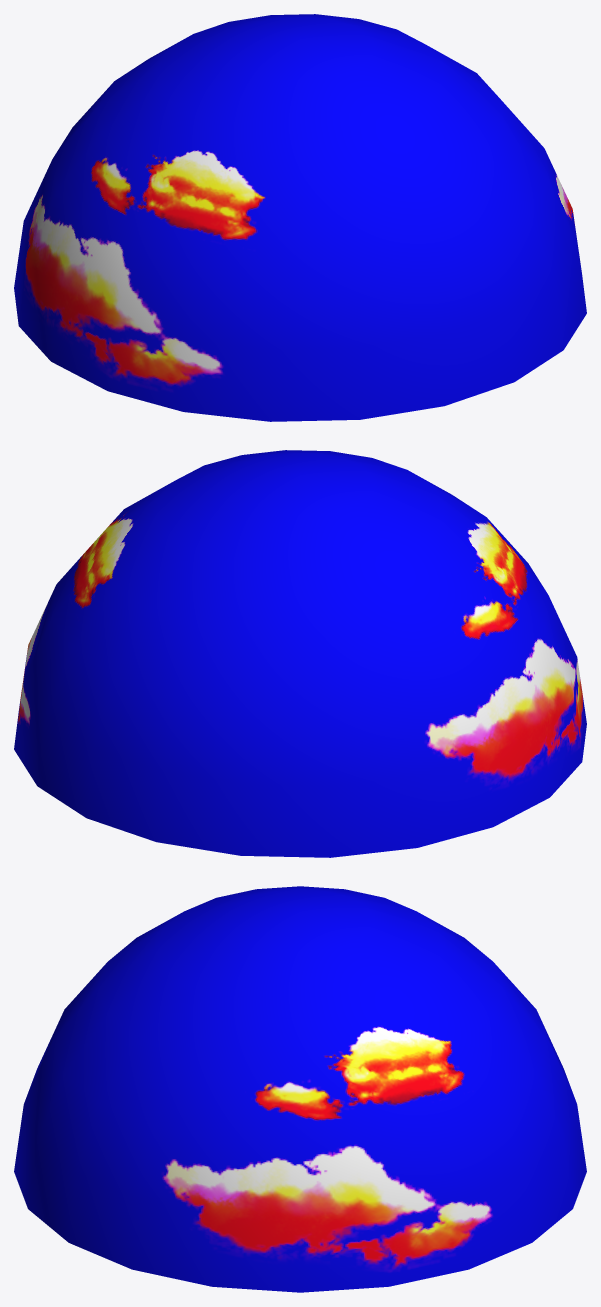
The model's file is tenkyu.fbx.
3 views of the same model, one above another, from view 1: azimuth 30°, elevation 25°; view 2: azimuth 150°, elevation 25°; view 3: azimuth 270°, elevation 25° (orthographic).
Visible parts, largest first — view 1: pSphere14; view 2: pSphere14; view 3: pSphere14.
Part boxes in pixels (x1,y1,x2,y2): pSphere14: (14,14,586,421); pSphere14: (14,450,586,857); pSphere14: (14,886,586,1292).
Bounding box in the file's own units: 477 × 239 × 477.
Materials: 1 (1 with a texture image).
